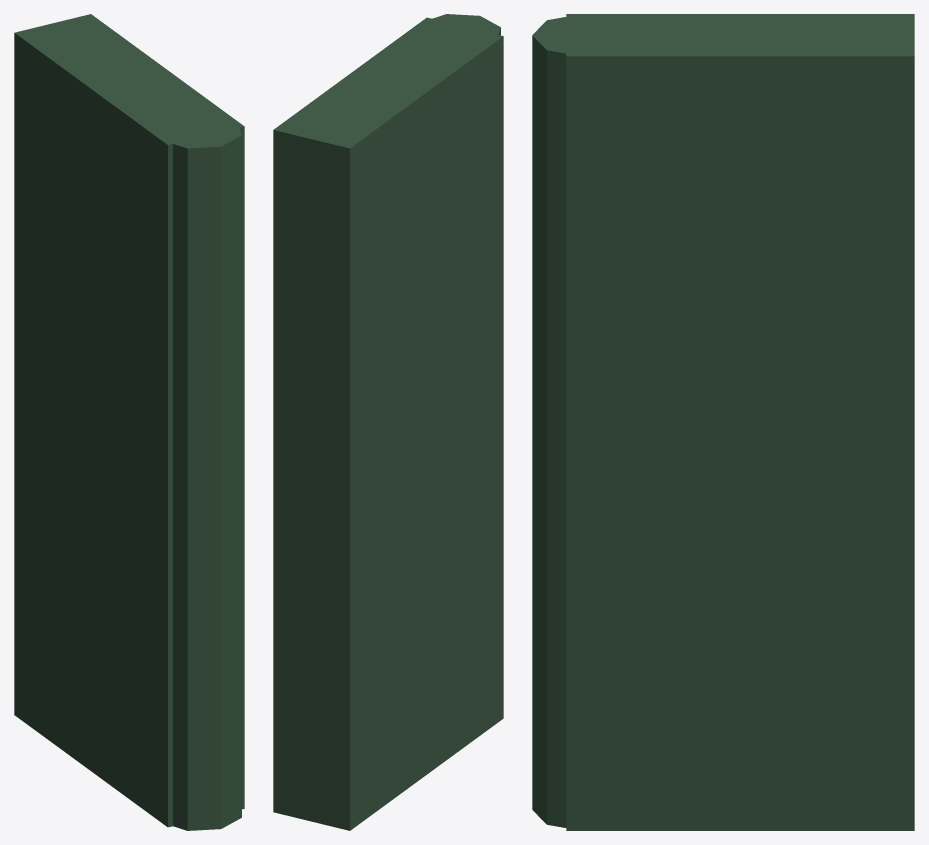
File: rudder_pivot.glb
The picture shows the model from 3 angles, left to right: view 1: azimuth 30°, elevation 25°; view 2: azimuth 150°, elevation 25°; view 3: azimuth 270°, elevation 25°; orthographic projection. The views are drawn at different scales.
Visible parts, largest first — view 1: rudder, rudder_hinge; view 2: rudder, rudder_hinge; view 3: rudder, rudder_hinge.
Boxes of the visible parts, box(x1,y1,x2,y2) form: rudder: box(14, 14, 244, 827); rudder_hinge: box(156, 112, 241, 830); rudder: box(273, 17, 503, 830); rudder_hinge: box(421, 14, 500, 48); rudder: box(566, 14, 914, 830); rudder_hinge: box(532, 14, 632, 827).
Size of the model in its own units: 0.11 by 0.9358 by 0.4189.
